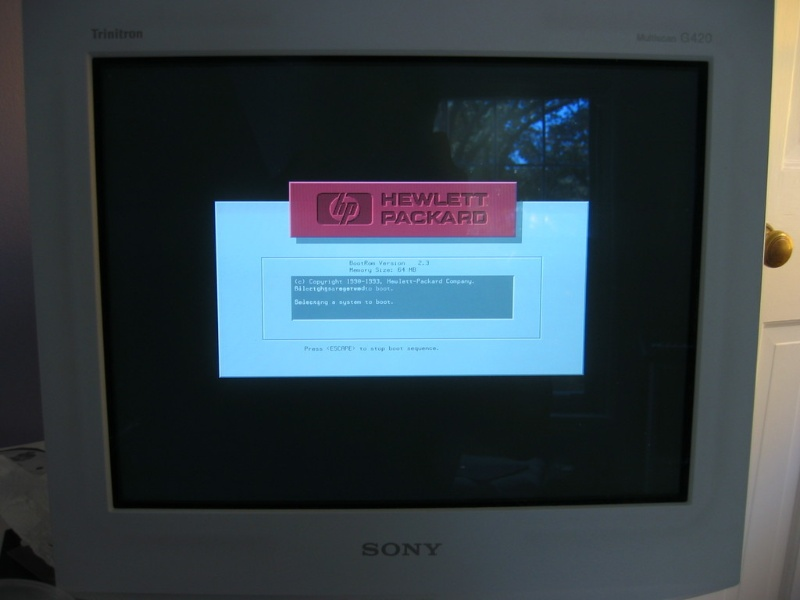tv: (15, 3, 764, 595)
